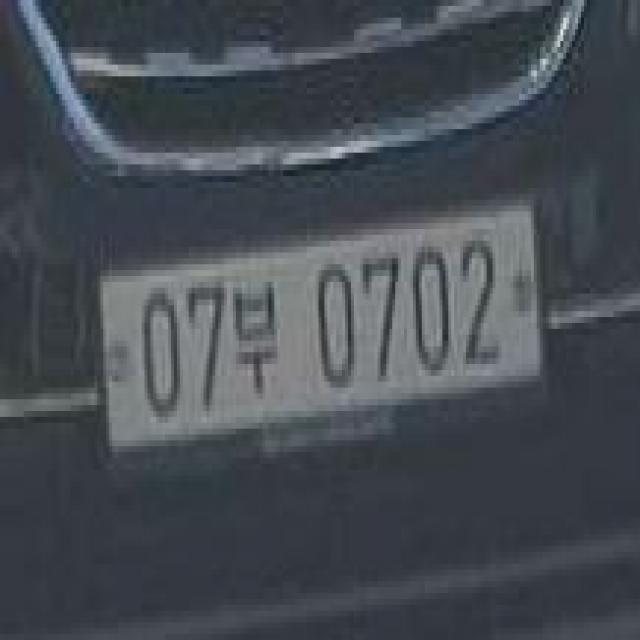illegal_plate: (92, 195, 548, 477)
